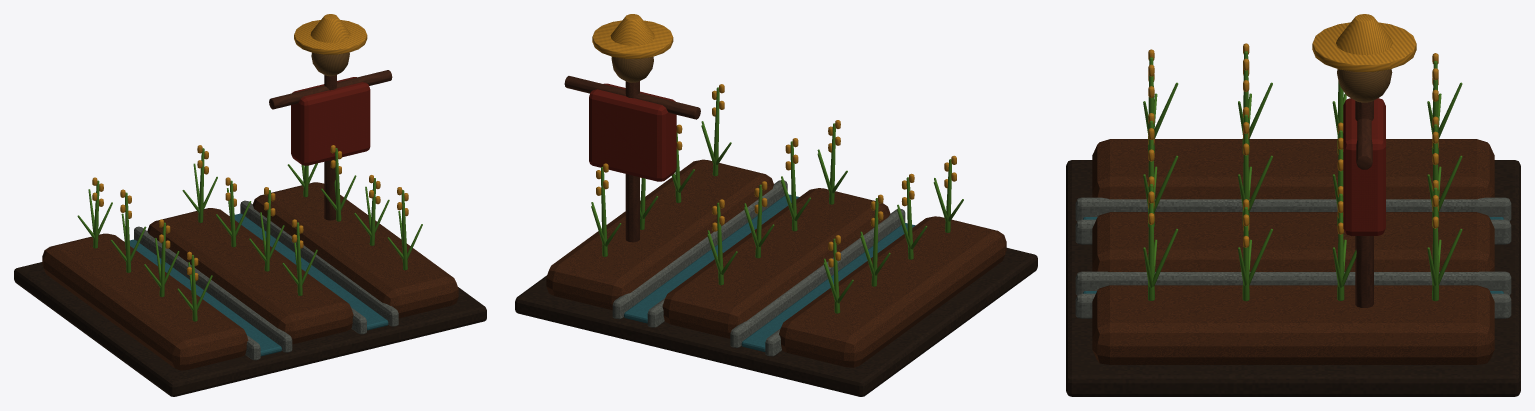
File: building_farm.glb
3 views of the same model, side by side, from view 1: azimuth 30°, elevation 25°; view 2: azimuth 150°, elevation 25°; view 3: azimuth 270°, elevation 25° (orthographic). The views are drawn at different scales.
Visible parts, largest first — view 1: SoilRidge_00, FarmPlot, SoilRidge_01, SoilRidge_02, ScarecrowCoat, ChannelStone.001, ChannelStone.003, IrrigationChannel.001, IrrigationChannel, ScarecrowHatBrim, ScarecrowArms, ScarecrowPost (+2 smaller); view 2: SoilRidge_00, FarmPlot, SoilRidge_01, SoilRidge_02, ScarecrowCoat, ChannelStone.001, ChannelStone.003, IrrigationChannel.001, IrrigationChannel, ScarecrowHatBrim, ScarecrowArms, ScarecrowPost (+2 smaller); view 3: SoilRidge_02, FarmPlot, SoilRidge_01, SoilRidge_00, ChannelStone.002, ChannelStone, ScarecrowCoat, ScarecrowHatBrim, ScarecrowPost, ScarecrowHat, ScarecrowHead, ChannelStone.001 (+7 smaller).
Part boxes in pixels (bbox=[...]): SoilRidge_00: bbox=[42, 233, 248, 370]; FarmPlot: bbox=[14, 262, 486, 396]; SoilRidge_01: bbox=[147, 208, 353, 344]; SoilRidge_02: bbox=[252, 182, 458, 318]; ScarecrowCoat: bbox=[291, 77, 370, 165]; ChannelStone.001: bbox=[134, 226, 292, 352]; ChannelStone.003: bbox=[240, 200, 398, 326]; IrrigationChannel.001: bbox=[234, 213, 388, 330]; IrrigationChannel: bbox=[129, 239, 281, 356]; ScarecrowHatBrim: bbox=[294, 20, 367, 54]; ScarecrowArms: bbox=[269, 70, 392, 109]; ScarecrowPost: bbox=[324, 75, 336, 220]; SoilRidge_00: bbox=[779, 216, 1006, 367]; FarmPlot: bbox=[515, 248, 1037, 396]; SoilRidge_01: bbox=[662, 188, 890, 338]; SoilRidge_02: bbox=[546, 159, 773, 310]; ScarecrowCoat: bbox=[589, 83, 676, 181]; ChannelStone.001: bbox=[730, 208, 905, 347]; ChannelStone.003: bbox=[612, 180, 787, 319]; IrrigationChannel.001: bbox=[624, 194, 799, 323]; IrrigationChannel: bbox=[741, 223, 915, 351]; ScarecrowHatBrim: bbox=[592, 20, 673, 58]; ScarecrowArms: bbox=[564, 76, 700, 119]; ScarecrowPost: bbox=[625, 81, 639, 242]; SoilRidge_02: bbox=[1092, 285, 1494, 364]; FarmPlot: bbox=[1066, 160, 1520, 396]; SoilRidge_01: bbox=[1092, 212, 1494, 271]; SoilRidge_00: bbox=[1092, 139, 1494, 199]; ChannelStone.002: bbox=[1075, 271, 1511, 295]; ChannelStone: bbox=[1075, 197, 1511, 221]; ScarecrowCoat: bbox=[1343, 98, 1385, 235]; ScarecrowHatBrim: bbox=[1312, 22, 1416, 71]; ScarecrowPost: bbox=[1355, 100, 1373, 307]; ScarecrowHat: bbox=[1336, 14, 1392, 54]; ScarecrowHead: bbox=[1337, 69, 1392, 102]; ChannelStone.001: bbox=[1075, 219, 1511, 244].
Bounding box in the file's own units: 2.24 × 1.6 × 1.92.
9 materials, 9 textured.
